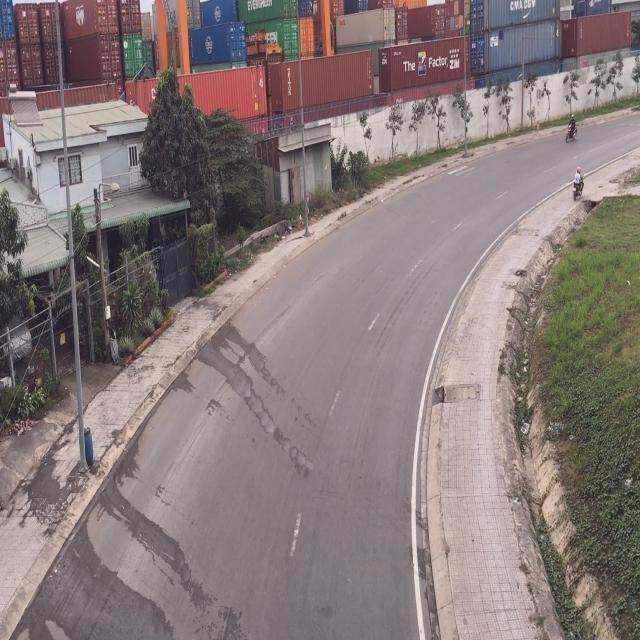motorbike: (564, 112, 578, 146), (571, 167, 584, 202)
